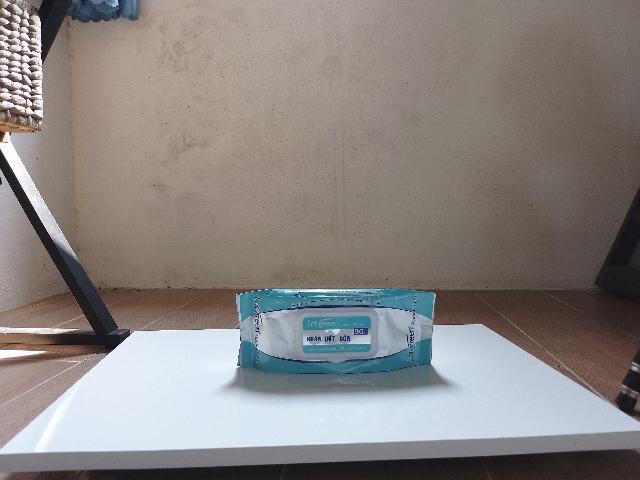Let-green_alcohol_wipes: (235, 289, 436, 374)
